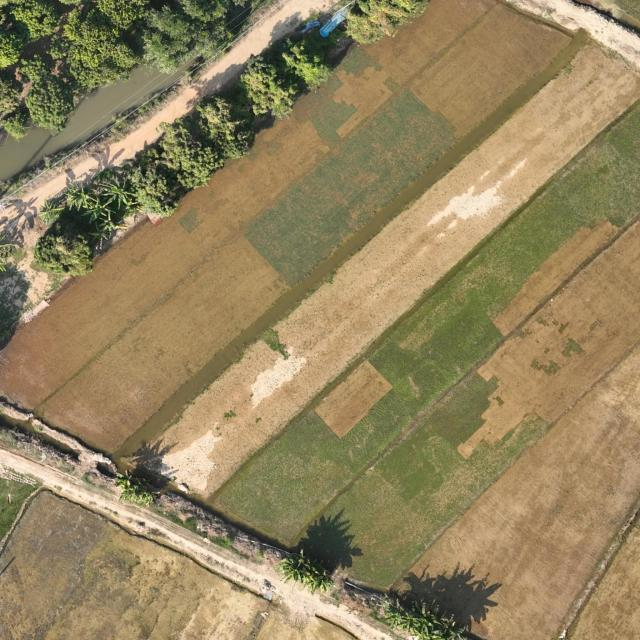Tree: (50, 5, 140, 91), (139, 2, 235, 76), (154, 121, 225, 190), (238, 52, 301, 122), (194, 96, 254, 160), (346, 0, 431, 45), (129, 147, 179, 216), (384, 600, 462, 640), (32, 228, 94, 276), (25, 73, 76, 131), (281, 43, 334, 92), (8, 0, 62, 41), (276, 556, 333, 594), (95, 0, 152, 30), (112, 472, 155, 506), (98, 180, 140, 210), (0, 30, 32, 68), (18, 53, 50, 85)
